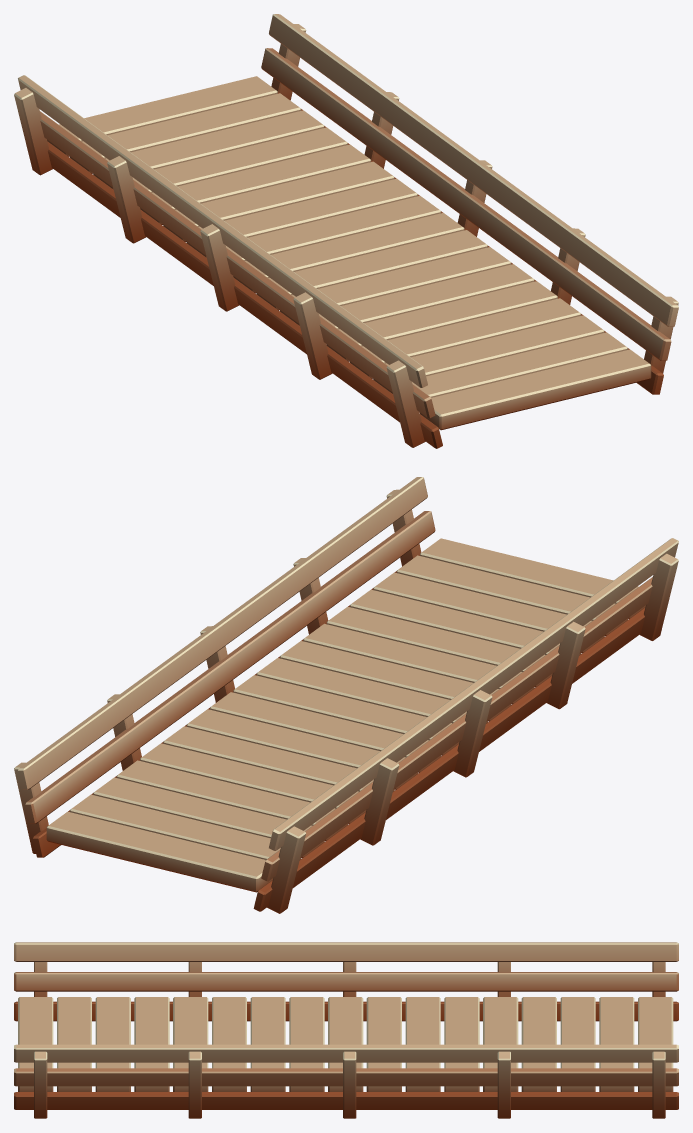
The model's file is Bridge.glb.
3 views of the same model, one above another, from view 1: azimuth 30°, elevation 25°; view 2: azimuth 150°, elevation 25°; view 3: azimuth 270°, elevation 25° (orthographic). The views are drawn at different scales.
Parts seen in each view (by area): view 1: Cube; view 2: Cube; view 3: Cube.
Boxes of the visible parts, x1,y1,x2,y2 form: Cube: (14, 14, 678, 448); Cube: (14, 477, 678, 913); Cube: (14, 942, 678, 1118).
Size of the model in its own units: 7.42 by 2.25 by 18.01.
1 material, 1 textured.
